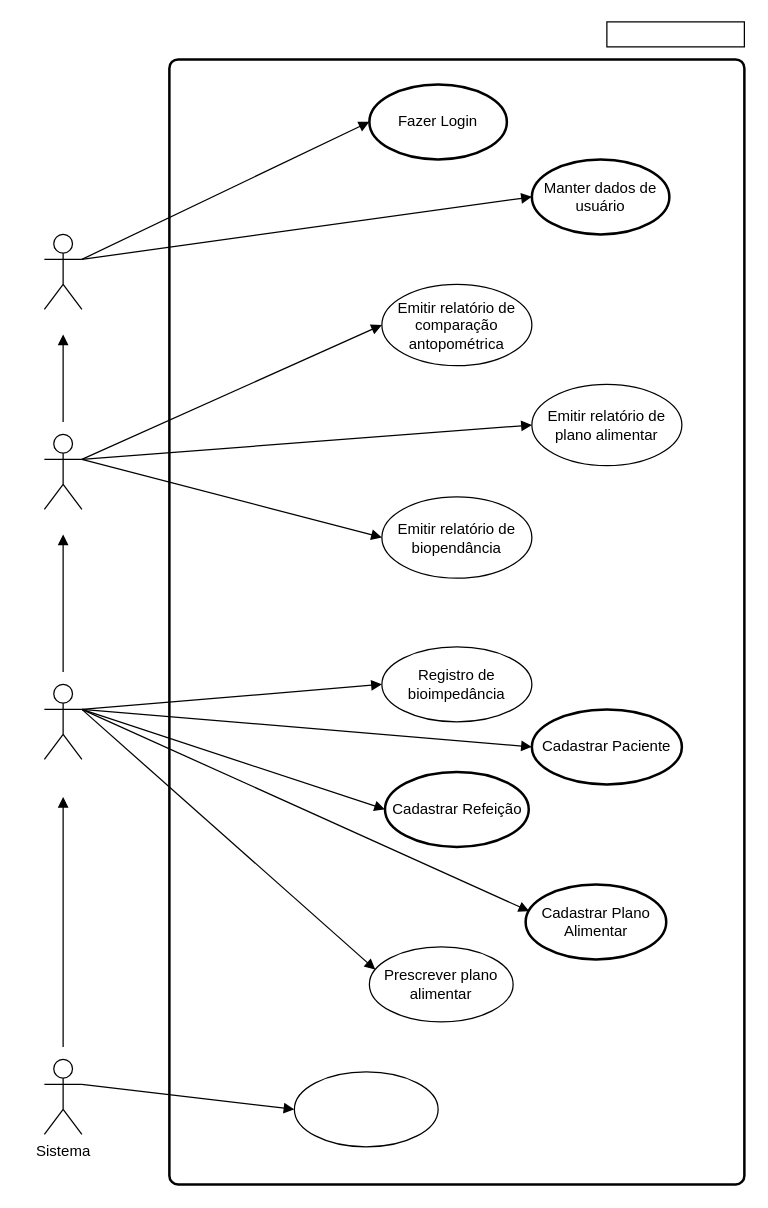
Image size: 768x1208. Some labels were removed from this diagram. Here are the shapes that lost their labels. From the top down, the centre of each, then its label:
point 675,34: APP Refeições
point 62,271: Usuário
point 62,471: Paciente
point 62,721: Nutricionista
point 365,1109: Cadastrar alimentos
